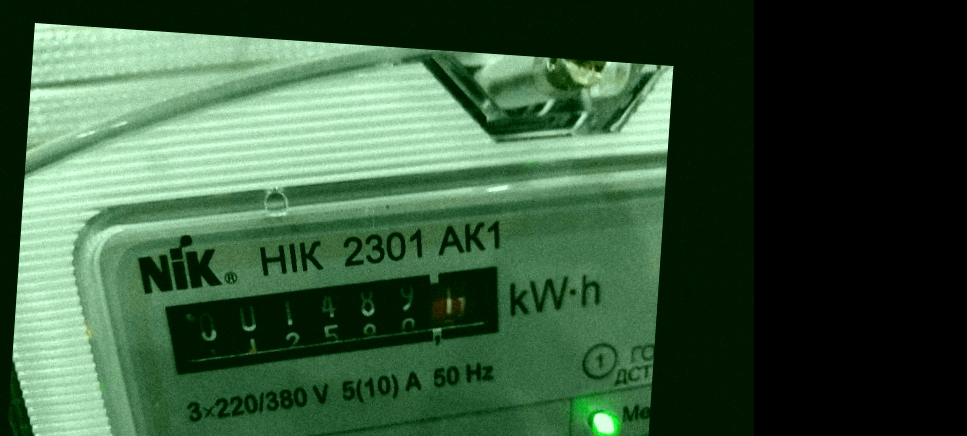0: (233, 296, 261, 334), (194, 307, 220, 344)
1: (437, 278, 459, 317), (277, 295, 299, 327)
4: (316, 287, 340, 320)
8: (356, 282, 379, 319)
9: (396, 279, 418, 312)
screen: (148, 233, 533, 408)
